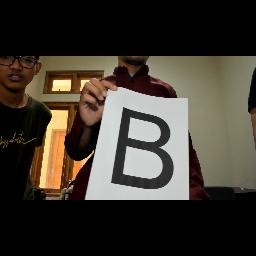b: (107, 104, 177, 192)
